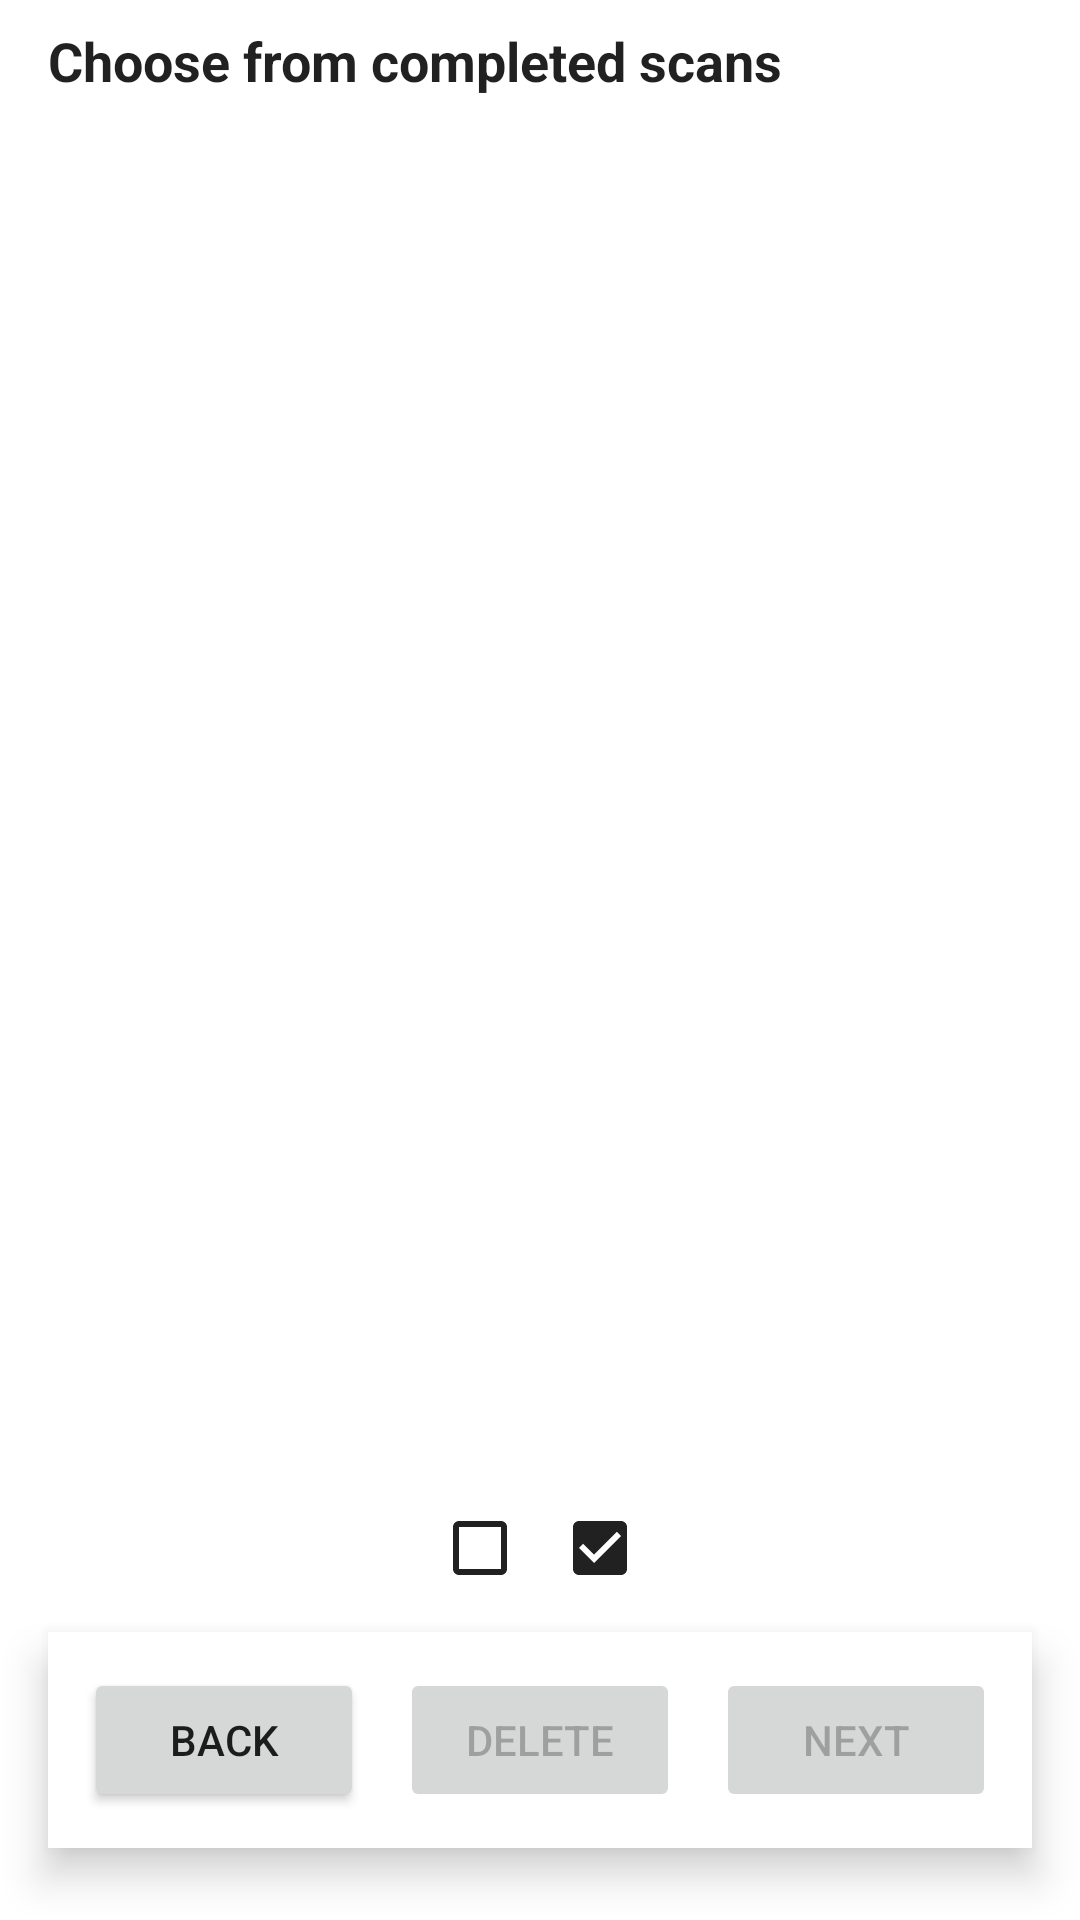

Locate icon controls on the screen. Image size 1080×1920, boxes as [left=x1, top=y1, right=x2, bottom=y2].
Deselect all: [left=453, top=1521, right=507, bottom=1575]
Select all: [left=573, top=1521, right=627, bottom=1575]
